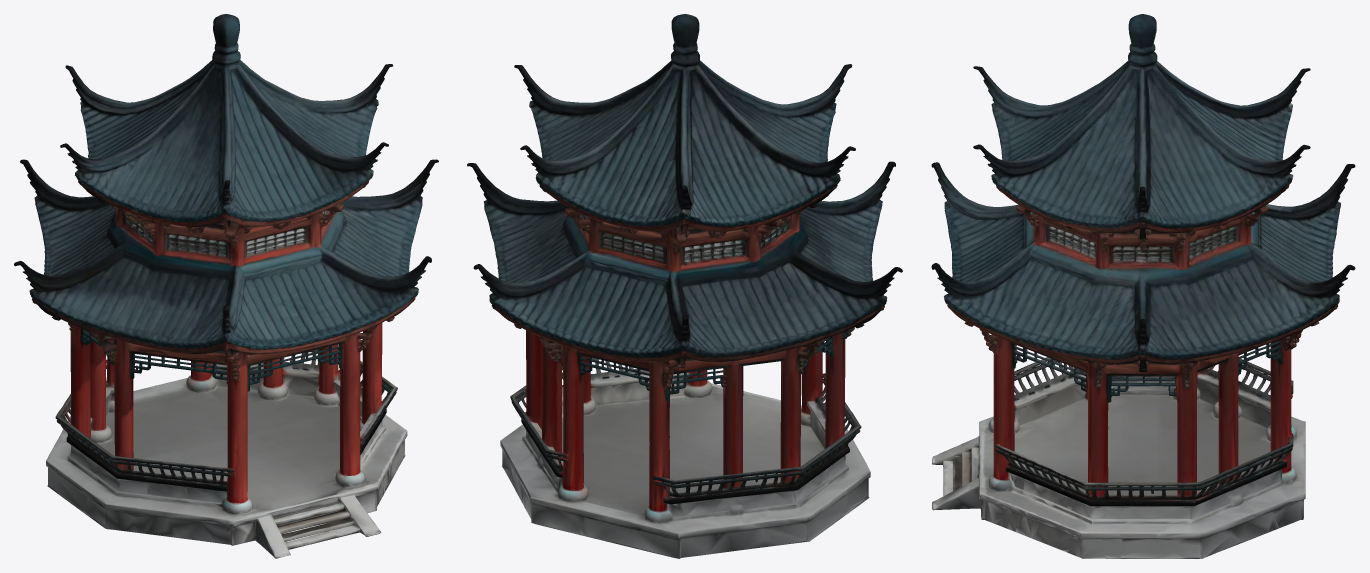
The model's file is pavilion2.glb.
3 views of the same model, side by side, from view 1: azimuth 30°, elevation 25°; view 2: azimuth 150°, elevation 25°; view 3: azimuth 270°, elevation 25° (orthographic). The views are drawn at different scales.
Parts seen in each view (by area): view 1: tripo_node_4b9be8eb-bcb3-44df-9dac-28a3c2e58efa; view 2: tripo_node_4b9be8eb-bcb3-44df-9dac-28a3c2e58efa; view 3: tripo_node_4b9be8eb-bcb3-44df-9dac-28a3c2e58efa.
Part boxes in pixels (bbox=[...]): tripo_node_4b9be8eb-bcb3-44df-9dac-28a3c2e58efa: bbox=[14, 14, 438, 558]; tripo_node_4b9be8eb-bcb3-44df-9dac-28a3c2e58efa: bbox=[467, 14, 902, 558]; tripo_node_4b9be8eb-bcb3-44df-9dac-28a3c2e58efa: bbox=[931, 14, 1355, 558].
Size of the model in its own units: 0.9552 by 0.9807 by 0.804.
1 material, 1 textured.
